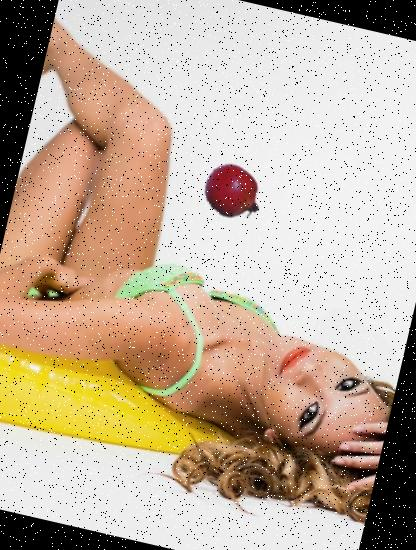Pomegranate: (196, 156, 270, 230)
